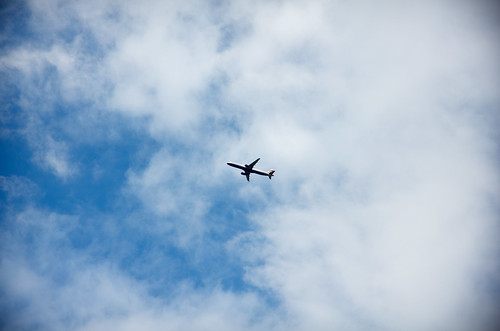aeroplane: (213, 148, 287, 190)
